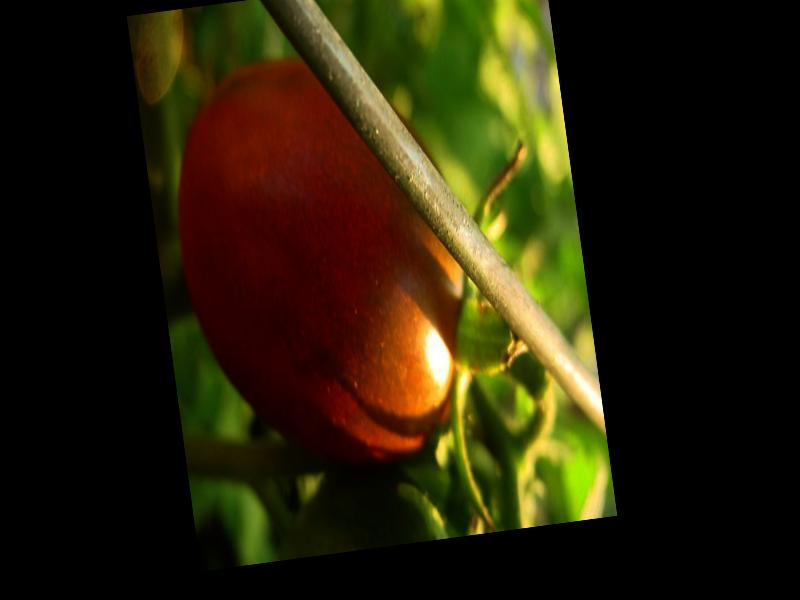Tomato: (159, 45, 485, 481)
